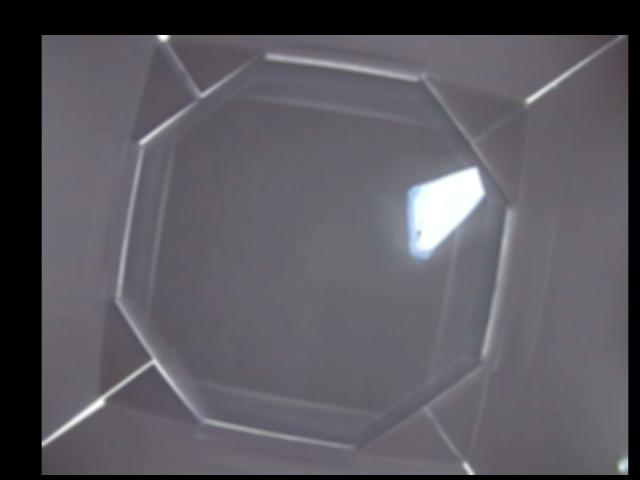China: (400, 165, 488, 261)
